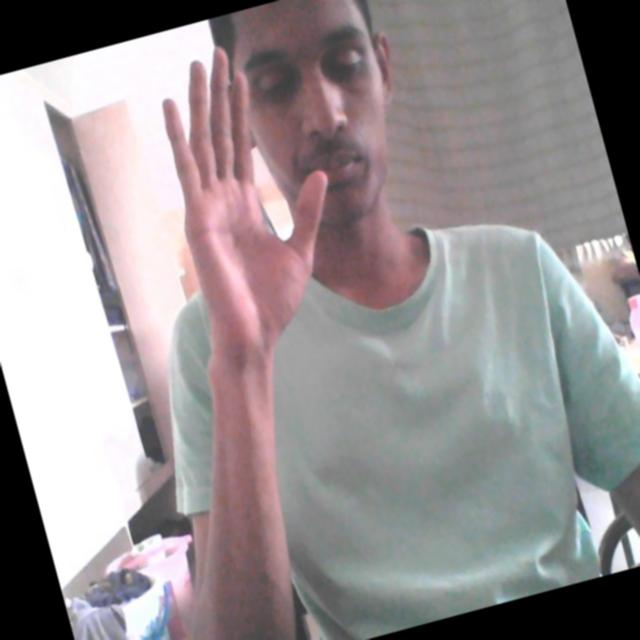Hello: (118, 34, 370, 386)
